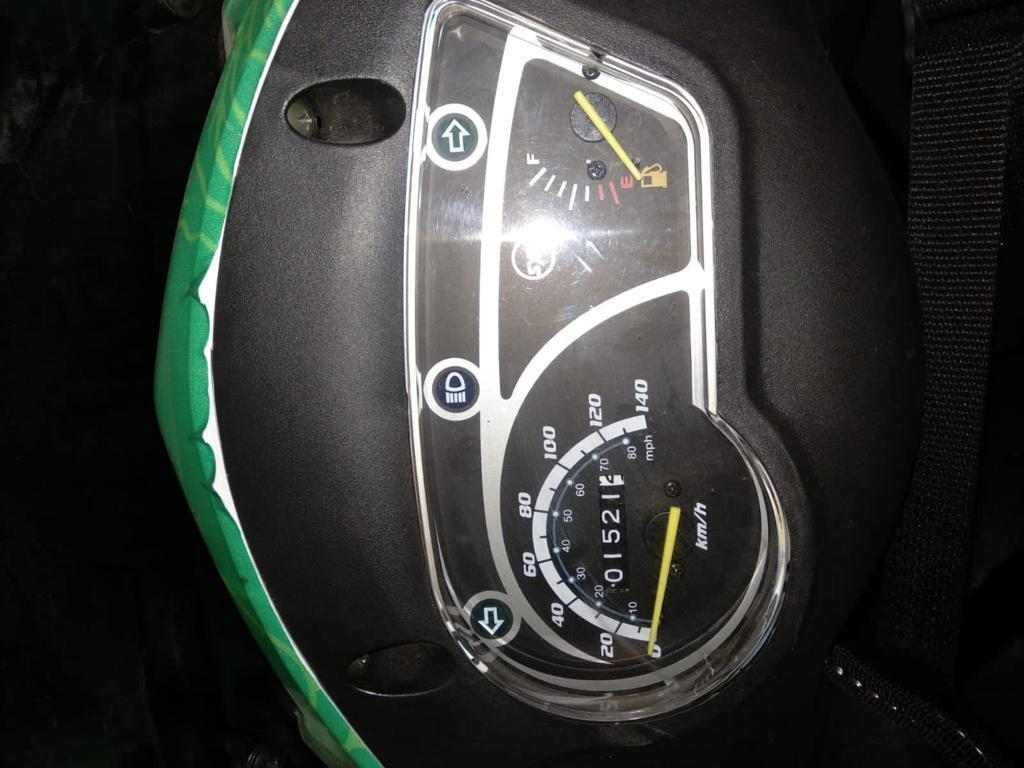0: (600, 566, 623, 583), (593, 584, 604, 591)
1: (600, 550, 623, 561), (598, 491, 621, 501)
2: (599, 506, 622, 524), (596, 472, 616, 486), (593, 591, 603, 597)
5: (599, 527, 620, 544)
odometer: (593, 471, 633, 596)
